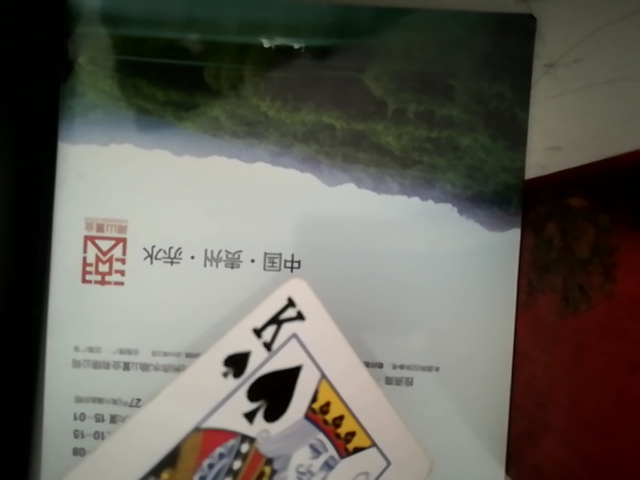ht k: (40, 266, 454, 478)
